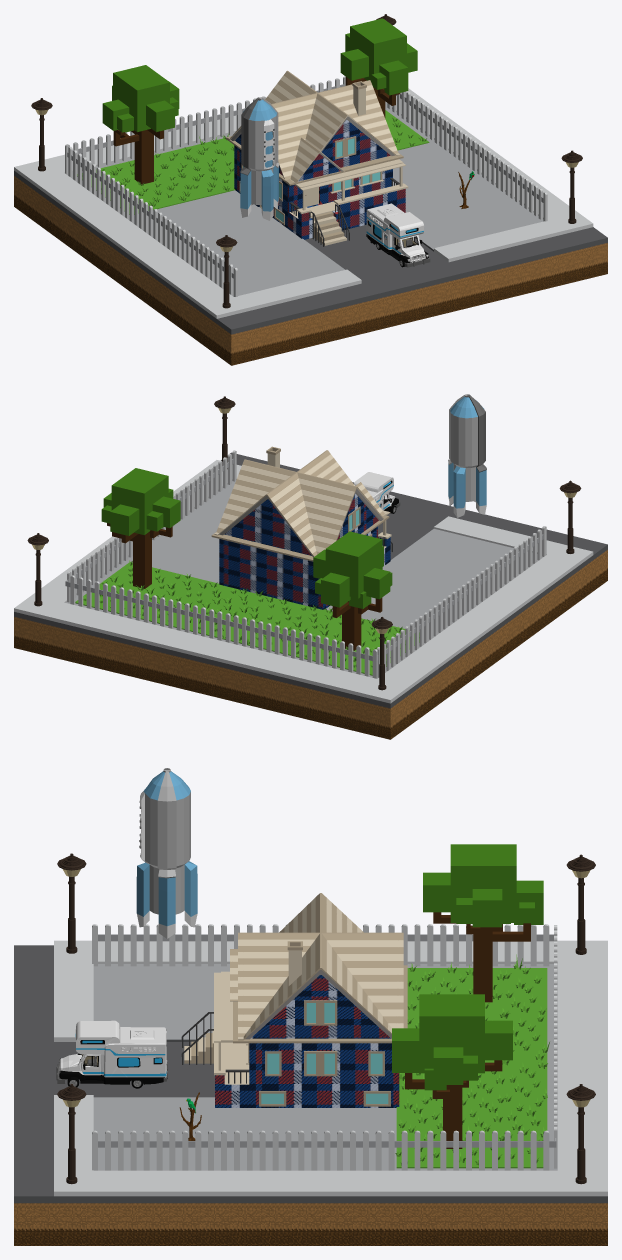
The picture shows the model from 3 angles, top to bottom: view 1: azimuth 30°, elevation 25°; view 2: azimuth 150°, elevation 25°; view 3: azimuth 270°, elevation 25°; orthographic projection. The views are drawn at different scales.
Visible parts, largest first — view 1: Cube.004, Cube.171, OBJRANDOM_ROCKETSHIP, VEHICLES_CAMPER; view 2: Cube.004, Cube.171, OBJRANDOM_ROCKETSHIP, VEHICLES_CAMPER; view 3: Cube.004, Cube.171, OBJRANDOM_ROCKETSHIP, VEHICLES_CAMPER.
Part boxes in pixels (box(x1,y1,x2,y2)): Cube.004: box(14, 14, 607, 365); Cube.171: box(226, 70, 408, 246); OBJRANDOM_ROCKETSHIP: box(240, 97, 279, 220); VEHICLES_CAMPER: box(366, 203, 430, 267); Cube.004: box(14, 396, 607, 739); Cube.171: box(211, 446, 392, 609); OBJRANDOM_ROCKETSHIP: box(448, 394, 486, 517); VEHICLES_CAMPER: box(354, 472, 400, 513); Cube.004: box(14, 844, 607, 1245); Cube.171: box(181, 893, 407, 1107); OBJRANDOM_ROCKETSHIP: box(136, 768, 197, 938); VEHICLES_CAMPER: box(56, 1020, 167, 1088).
Bounding box in the file's own units: 4000 × 2173 × 4000.
Materials: 35 (4 with a texture image).
